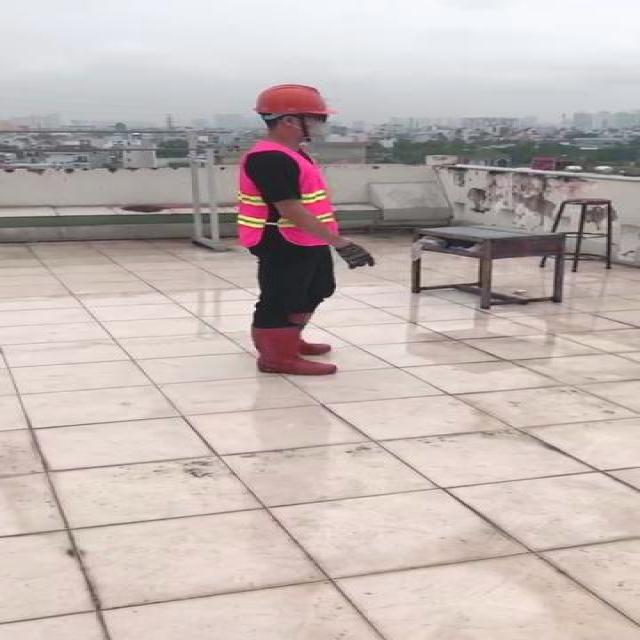boots: (249, 323, 339, 377)
face_mask: (295, 110, 336, 142)
hand_glove: (334, 243, 377, 269)
head_helmet: (251, 82, 336, 117)
person: (228, 81, 382, 381)
vest: (236, 145, 342, 245)
